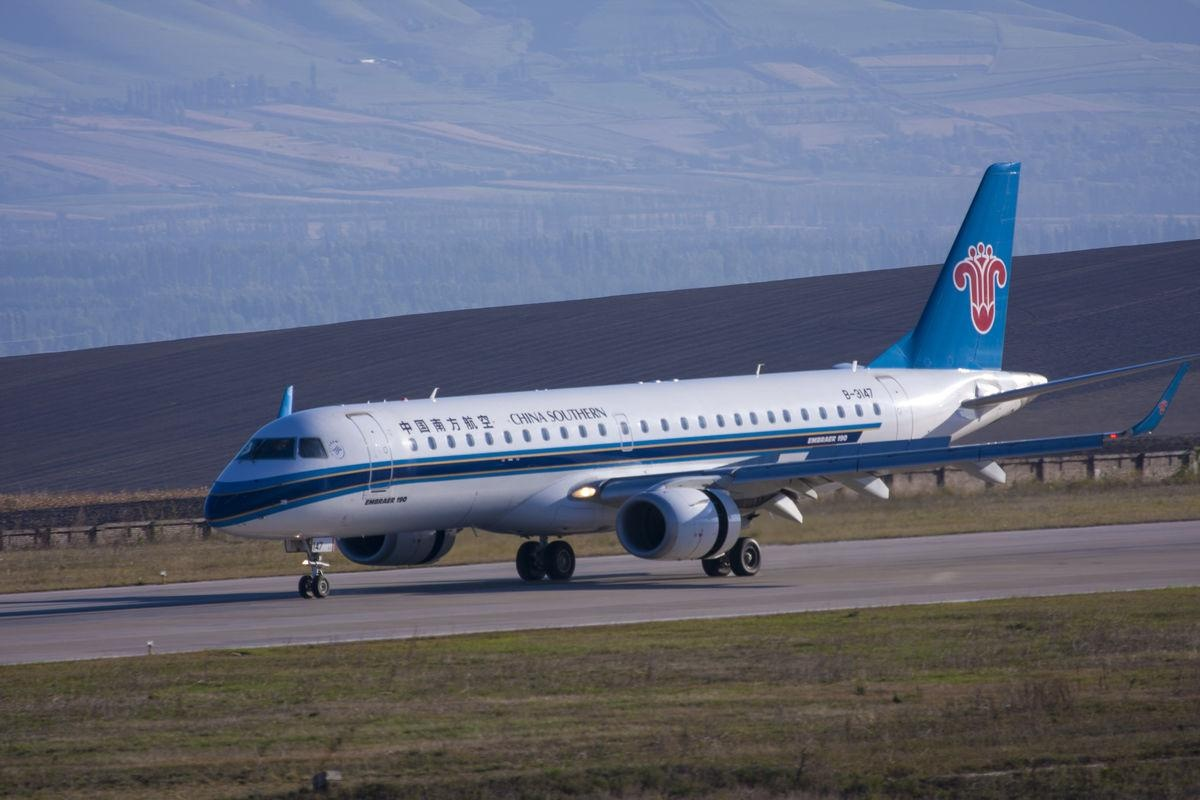airplane: (196, 157, 1073, 624)
